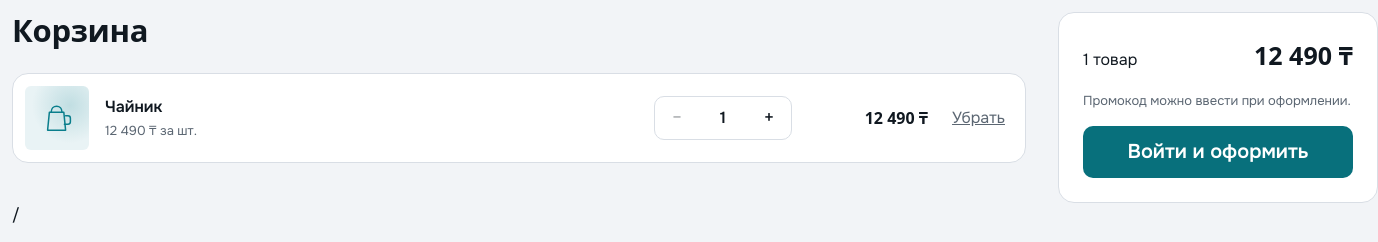
Test: гостя «Войти и оформить» отправляет на вход с возвратом к оформлению
Click the button "Войти и оформить". click: point(1218, 152)
box: [1083,126,1353,178]
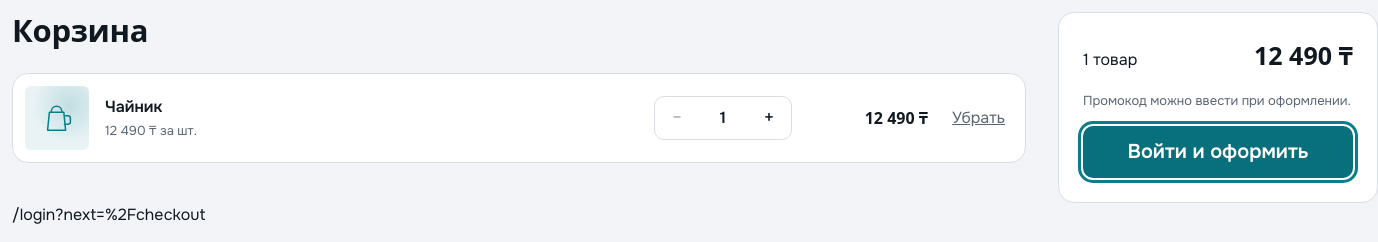
Check: the text with test id "location" reads "/login?next=%2Fcheckout", box [12,204,206,225]
